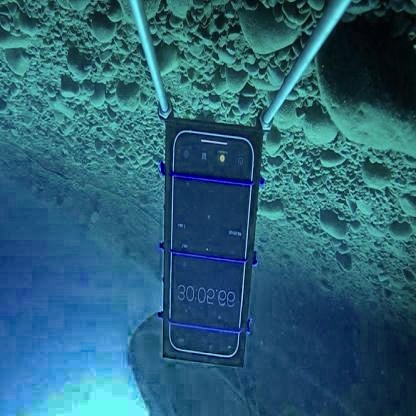cellphone: (169, 129, 254, 358)
